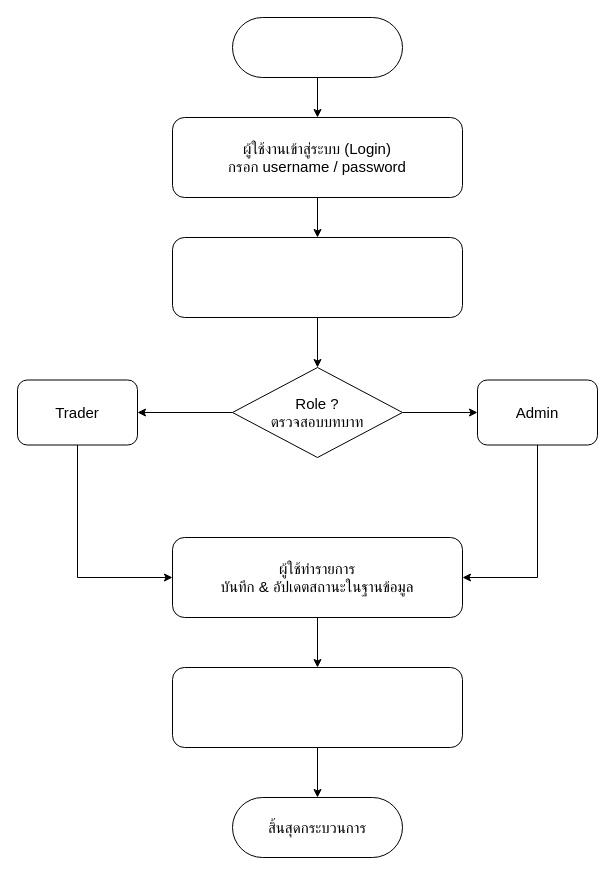
Some shapes in this 615 by 875 pixel diagram are drawn without their labels. Here are the shapes that lost their labels. From the top down, the centre of each, then its label:
point 317,47: เริ่มต้น
point 317,277: ระบบตรวจสอบสิทธิ์ (RBAC) เช็ก Role ในฐานข้อมูล
point 317,707: อัปเดตสถานะสำเร็จ ระบบยืนยันการบันทึกข้อมูล
